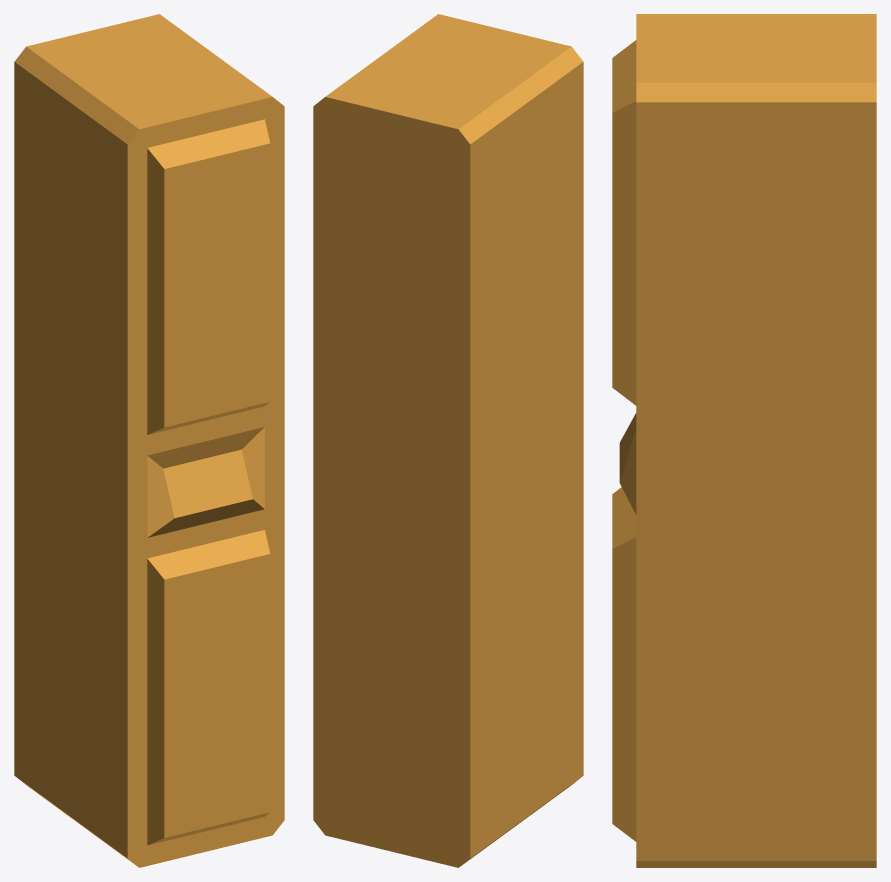
File: scifi-scifi-locker.glb
The picture shows the model from 3 angles, left to right: view 1: azimuth 30°, elevation 25°; view 2: azimuth 150°, elevation 25°; view 3: azimuth 270°, elevation 25°; orthographic projection. The views are drawn at different scales.
Visible parts, largest first — view 1: scifi-locker; view 2: scifi-locker; view 3: scifi-locker.
Part boxes in pixels (left/top/right/bottom): scifi-locker: left=14, top=14, right=284, bottom=867; scifi-locker: left=313, top=14, right=583, bottom=867; scifi-locker: left=612, top=14, right=876, bottom=867.
Size of the model in its own units: 0.4 by 1.8 by 0.55.
